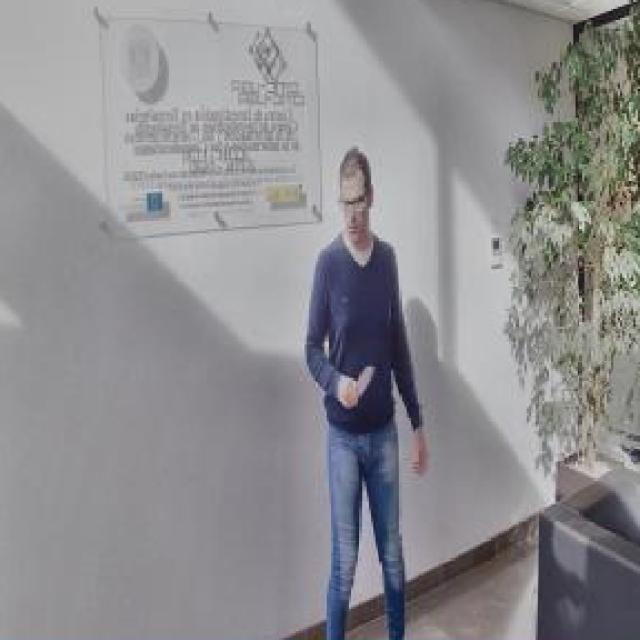knife: (349, 358, 380, 406)
